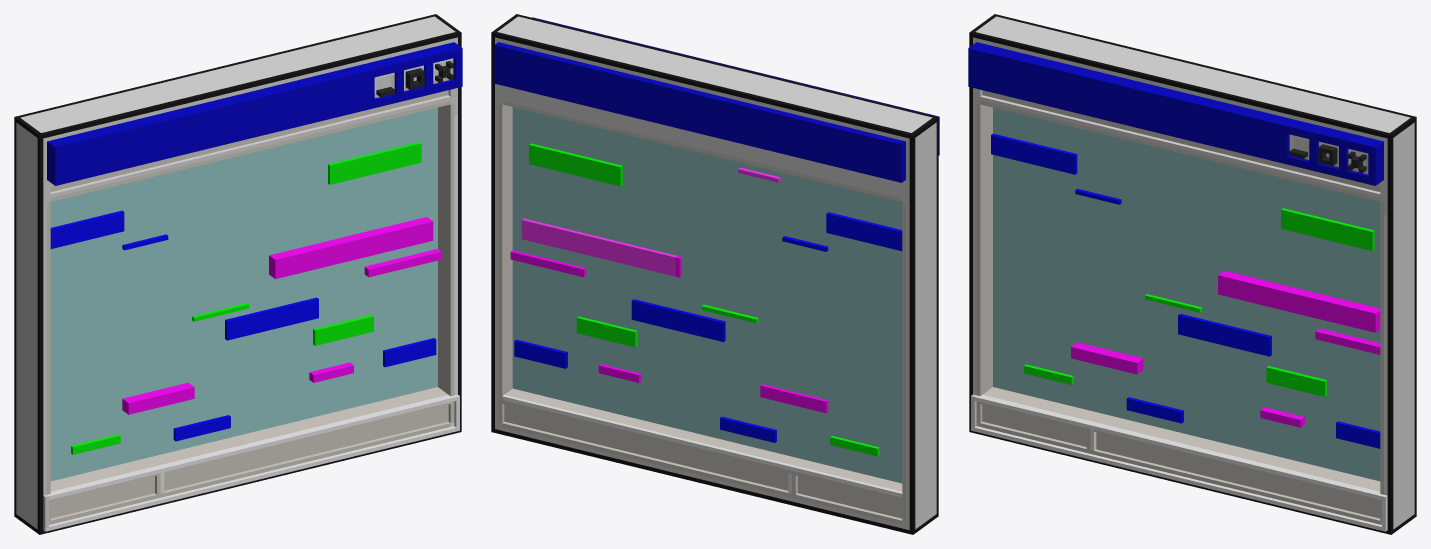
The model's file is Window2_2.fbx.
3 views of the same model, side by side, from view 1: azimuth 30°, elevation 25°; view 2: azimuth 150°, elevation 25°; view 3: azimuth 330°, elevation 25° (orthographic).
Parts seen in each view (by area): view 1: Untitled.004, Untitled.007, Untitled.008, Untitled.005; view 2: Untitled.004, Untitled.007, Untitled.008, Untitled.005; view 3: Untitled.004, Untitled.007, Untitled.008, Untitled.005.
Boxes of the visible parts, <box> form: Untitled.004: <box>50,107,437,481</box>; Untitled.007: <box>14,14,461,534</box>; Untitled.008: <box>47,42,462,185</box>; Untitled.005: <box>50,142,442,454</box>; Untitled.004: <box>512,107,902,483</box>; Untitled.007: <box>491,14,938,534</box>; Untitled.008: <box>494,17,939,182</box>; Untitled.005: <box>510,143,902,456</box>; Untitled.004: <box>993,107,1380,481</box>; Untitled.007: <box>969,14,1416,534</box>; Untitled.008: <box>968,42,1383,185</box>; Untitled.005: <box>991,133,1380,448</box>.
Bounding box in the file's own units: 1150 × 1040 × 190.
4 materials, 4 textured.
